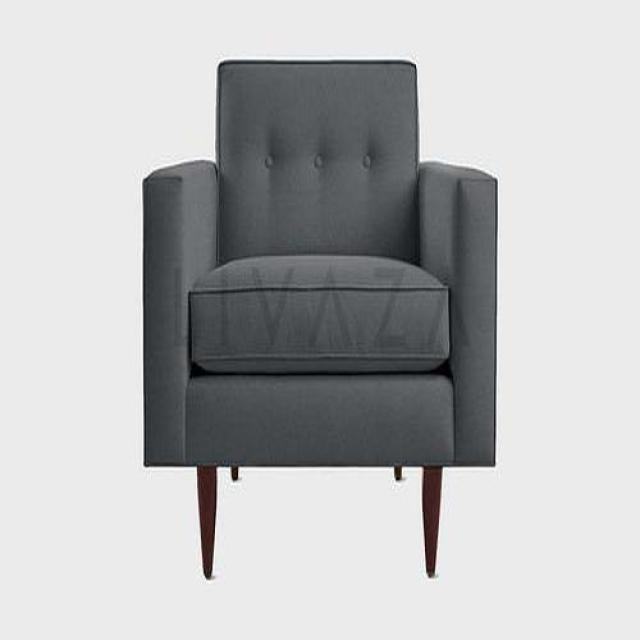sofa: (143, 61, 500, 582)
